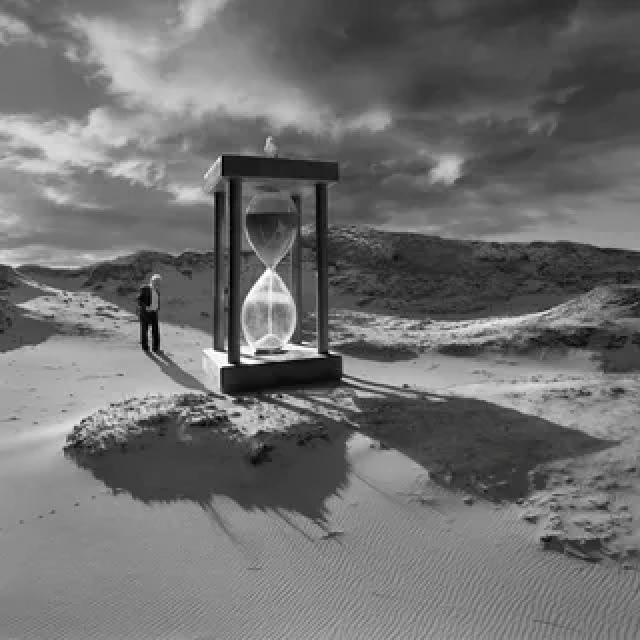clock: (197, 144, 351, 403)
